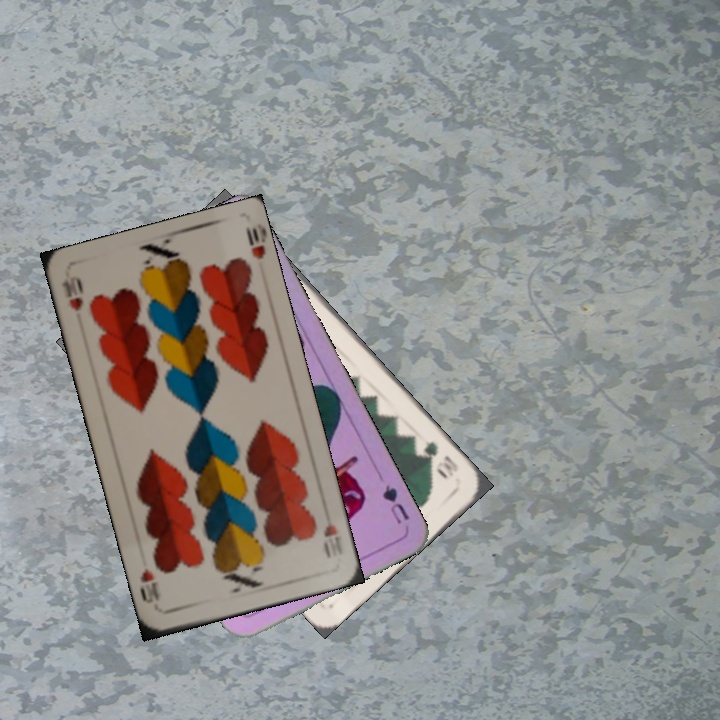G10: (419, 436, 461, 482)
GU: (378, 480, 412, 527)
H10: (319, 503, 345, 561), (58, 272, 86, 314)
